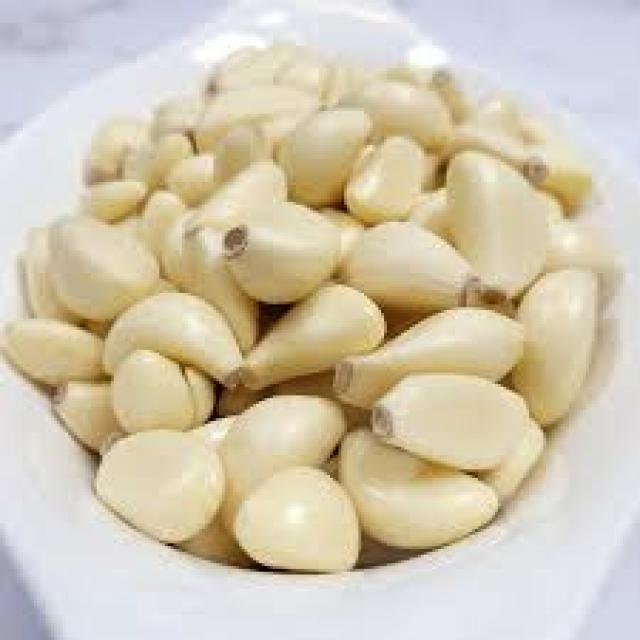Garlic bulb: (91, 287, 529, 552), (157, 182, 598, 421), (148, 91, 483, 310)
